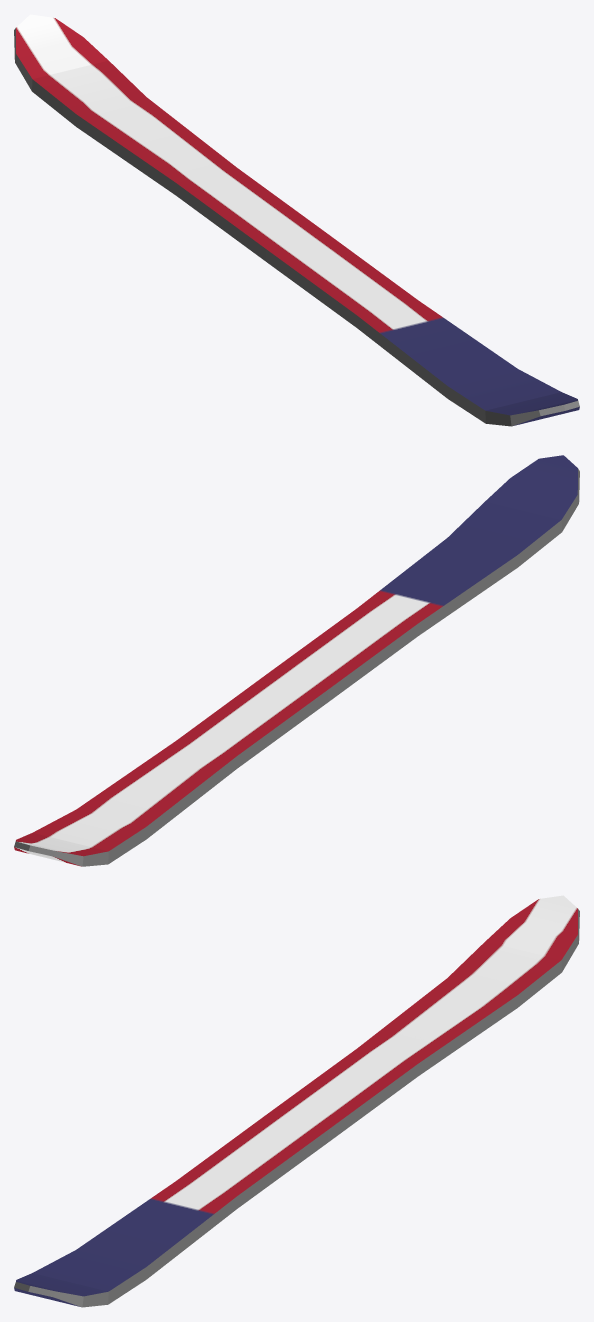
Rendered from SM_Prop_Ski_L_08.glb.
3 views of the same model, one above another, from view 1: azimuth 30°, elevation 25°; view 2: azimuth 150°, elevation 25°; view 3: azimuth 330°, elevation 25° (orthographic).
Visible parts, largest first — view 1: SM_Prop_Ski_L_08; view 2: SM_Prop_Ski_L_08; view 3: SM_Prop_Ski_L_08.
Part boxes in pixels (x1,y1,x2,y2): SM_Prop_Ski_L_08: (14, 14, 579, 426); SM_Prop_Ski_L_08: (14, 455, 579, 866); SM_Prop_Ski_L_08: (14, 895, 579, 1307).
Bounding box in the file's own units: 0.1408 × 0.0787 × 1.72.
Materials: 1 (1 with a texture image).
